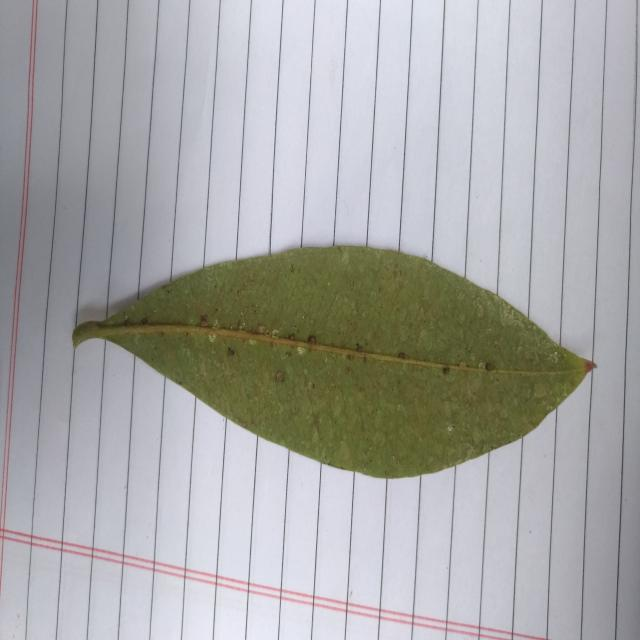nerale: (72, 247, 594, 478)
